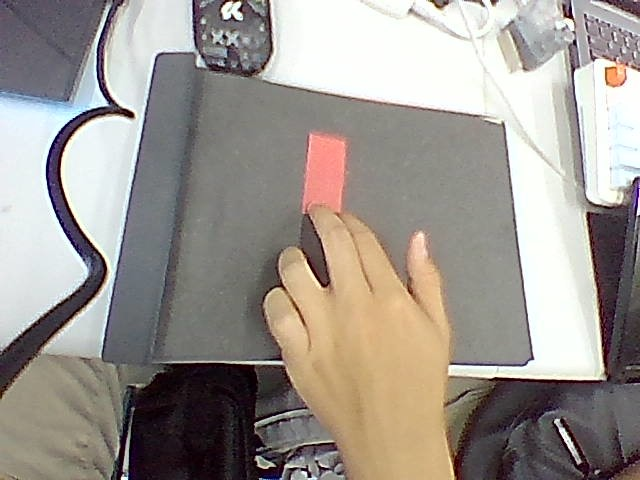card: (303, 133, 345, 212)
